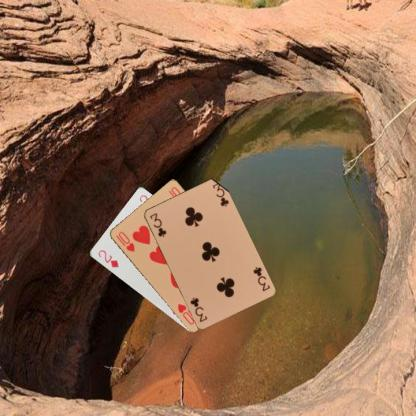10h: (113, 229, 136, 253)
2d: (95, 247, 120, 269)
3c: (147, 210, 168, 238), (250, 264, 271, 292)
